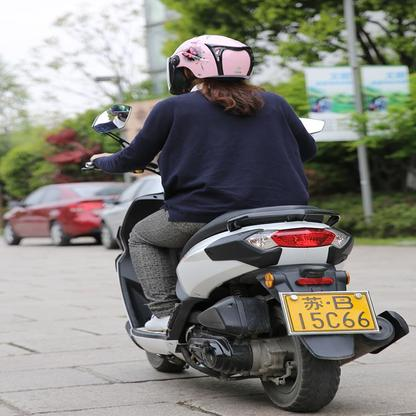target: (80, 32, 410, 412)
